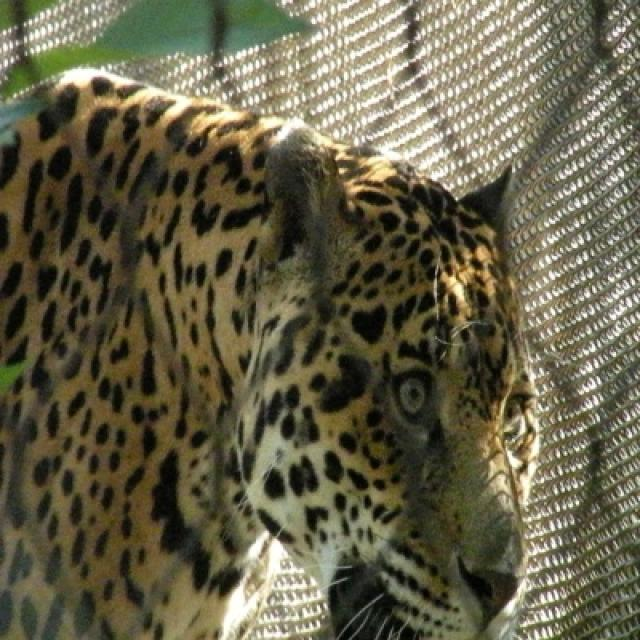Jaguar: (0, 70, 534, 638)
